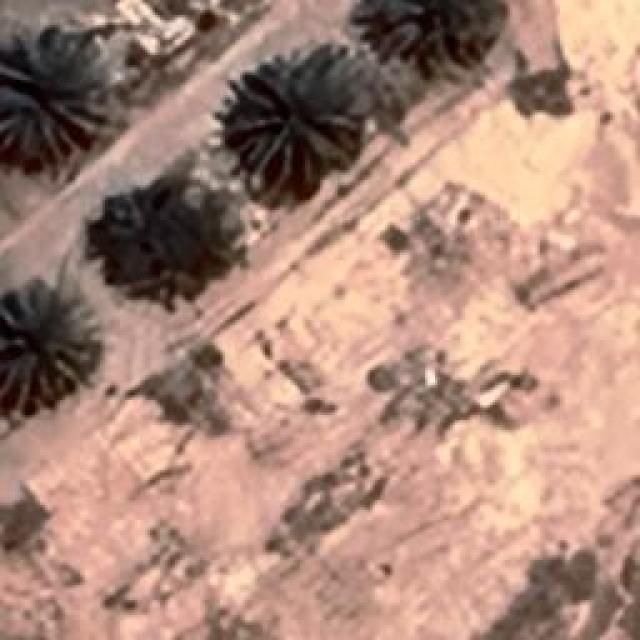PalmTree: (88, 172, 240, 292), (227, 60, 355, 185), (0, 32, 102, 157), (0, 280, 95, 405), (370, 0, 490, 78)
